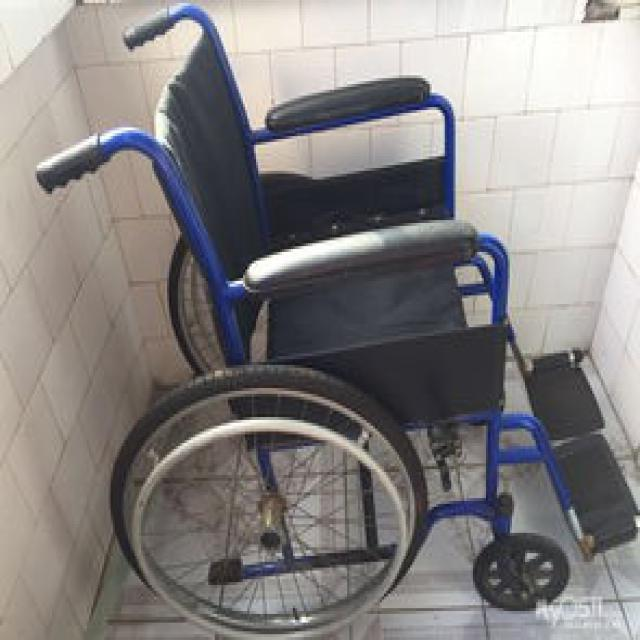wheelchair: (32, 0, 638, 637)
